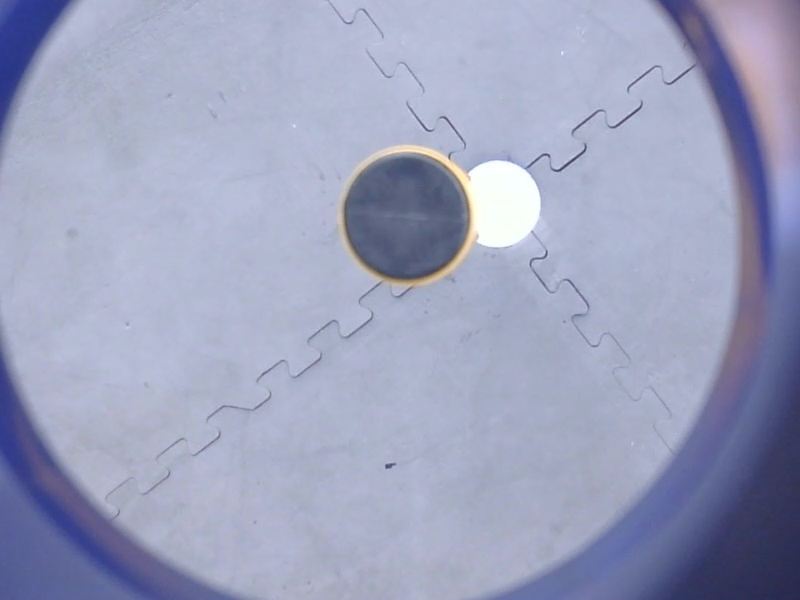tip: (328, 137, 486, 296)
